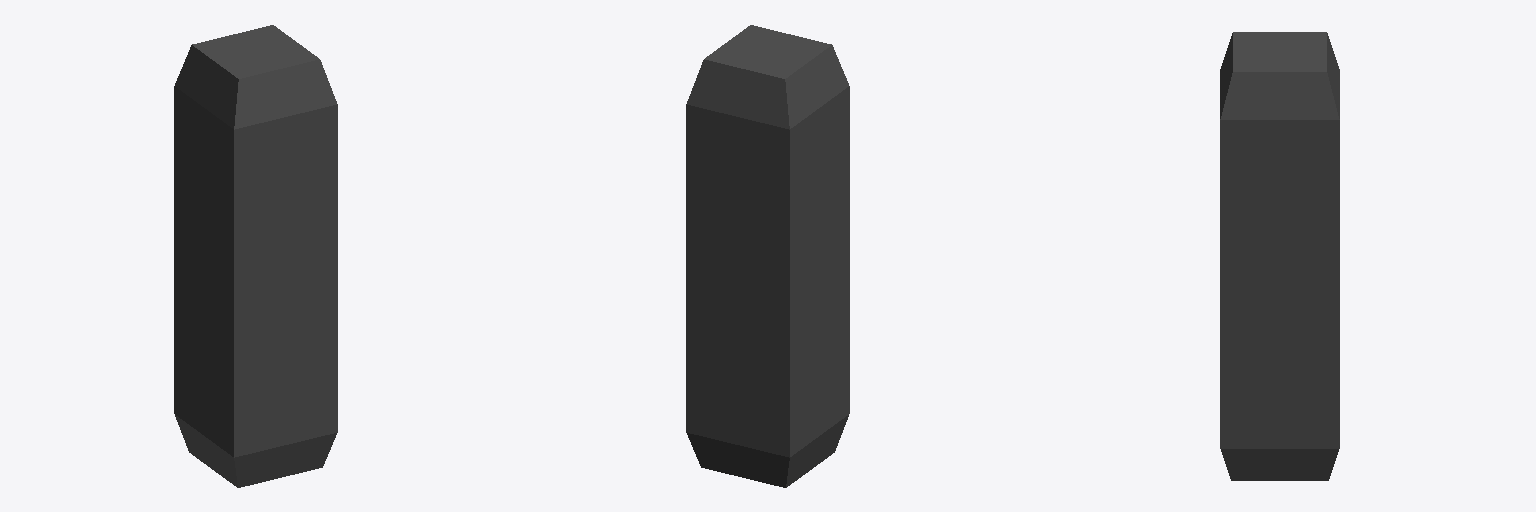
3 views of the same model, side by side, from view 1: azimuth 30°, elevation 25°; view 2: azimuth 150°, elevation 25°; view 3: azimuth 270°, elevation 25° (orthographic).
Parts seen in each view (by area): view 1: 立方体.004; view 2: 立方体.004; view 3: 立方体.004.
Boxes of the visible parts, box(x1,y1,x2,y2) form: 立方体.004: box(174, 25, 337, 487); 立方体.004: box(686, 25, 849, 487); 立方体.004: box(1220, 32, 1339, 480).
Bounding box in the file's own units: 12 × 45.2 × 12.
Materials: 1 (1 with a texture image).